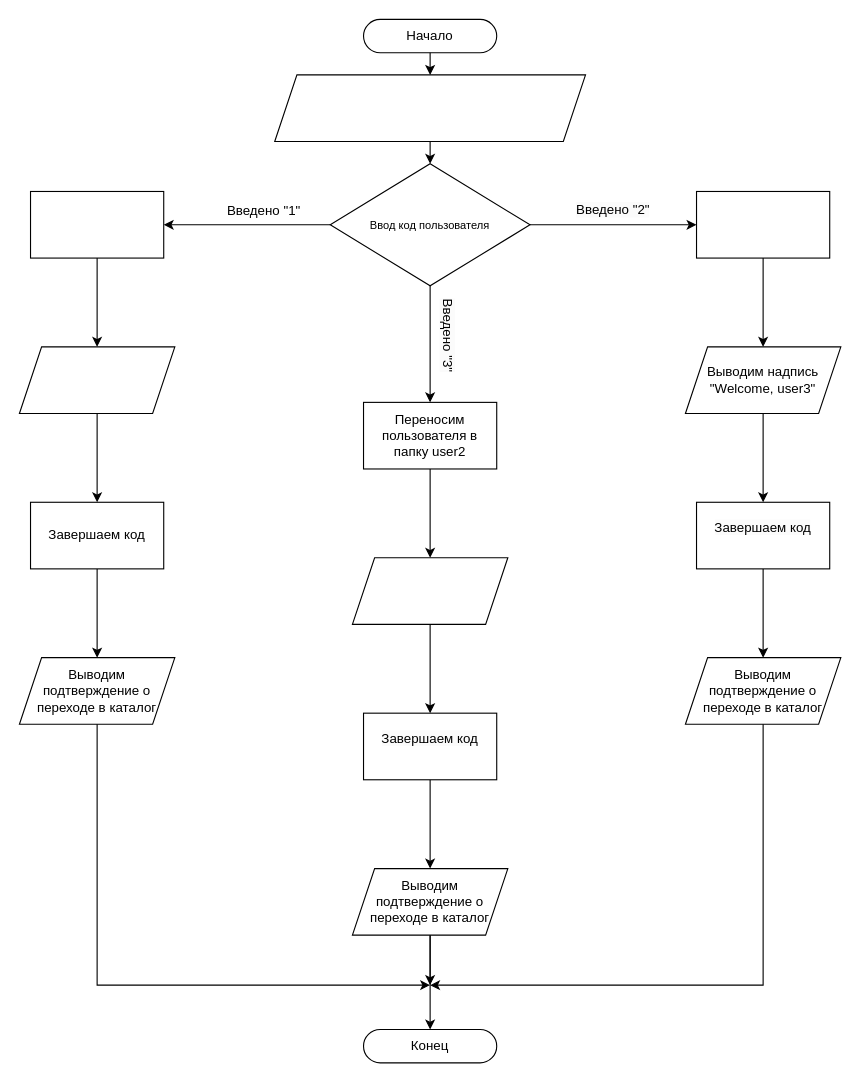
Image size: 860x1082. Some labels were removed from this diagram. Here are the shapes that lost their labels. From the top down, the centre of each, then its label:
point 430,108: Выводим надпись пользователю, чтобы он выбрал пользователя
point 96,224: Переносим пользователя в папку user1
point 762,224: Переносим пользователя в папку user3
point 96,379: Выводим надпись "Welcome, user1"
point 429,590: Выводим надпись "Welcome, user2"
